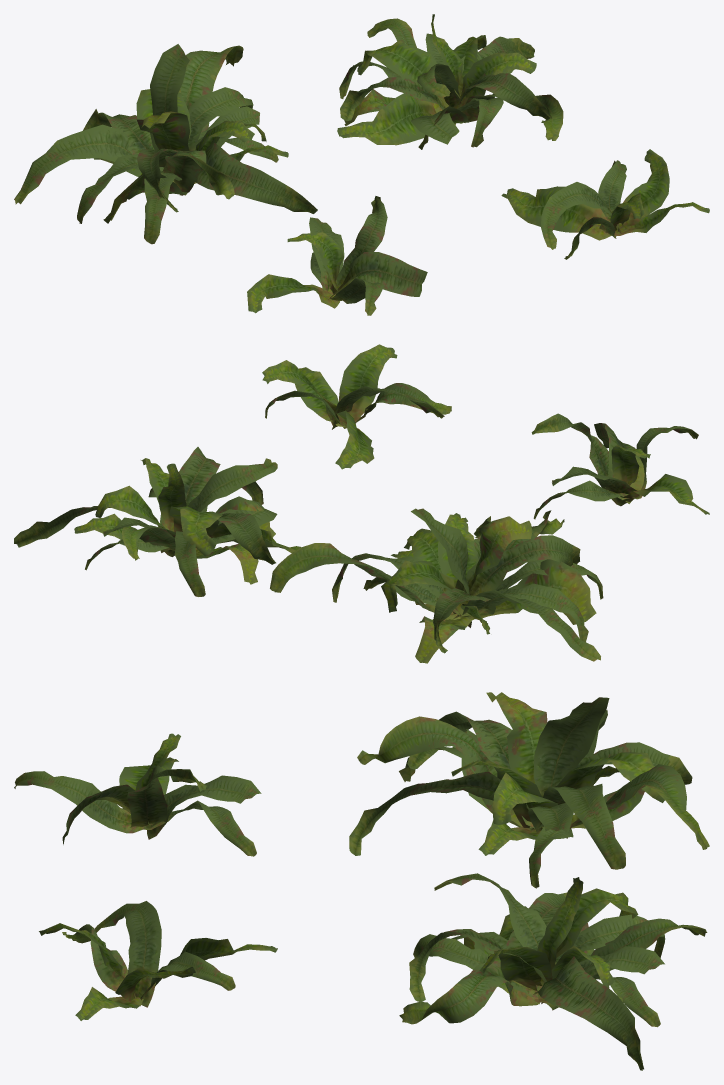
Rendered from fern_02.glb.
The picture shows the model from 3 angles, top to bottom: view 1: azimuth 30°, elevation 25°; view 2: azimuth 150°, elevation 25°; view 3: azimuth 270°, elevation 25°; orthographic projection. The views are drawn at different scales.
Parts seen in each view (by area): view 1: fern_02_b; view 2: fern_02_b; view 3: fern_02_b.
Part boxes in pixels (bbox=[...]): fern_02_b: bbox=[14, 14, 709, 315]; fern_02_b: bbox=[14, 344, 709, 663]; fern_02_b: bbox=[14, 692, 709, 1070].
Bounding box in the file's own units: 1.97 × 0.4277 × 1.72.
Materials: 1 (1 with a texture image).
